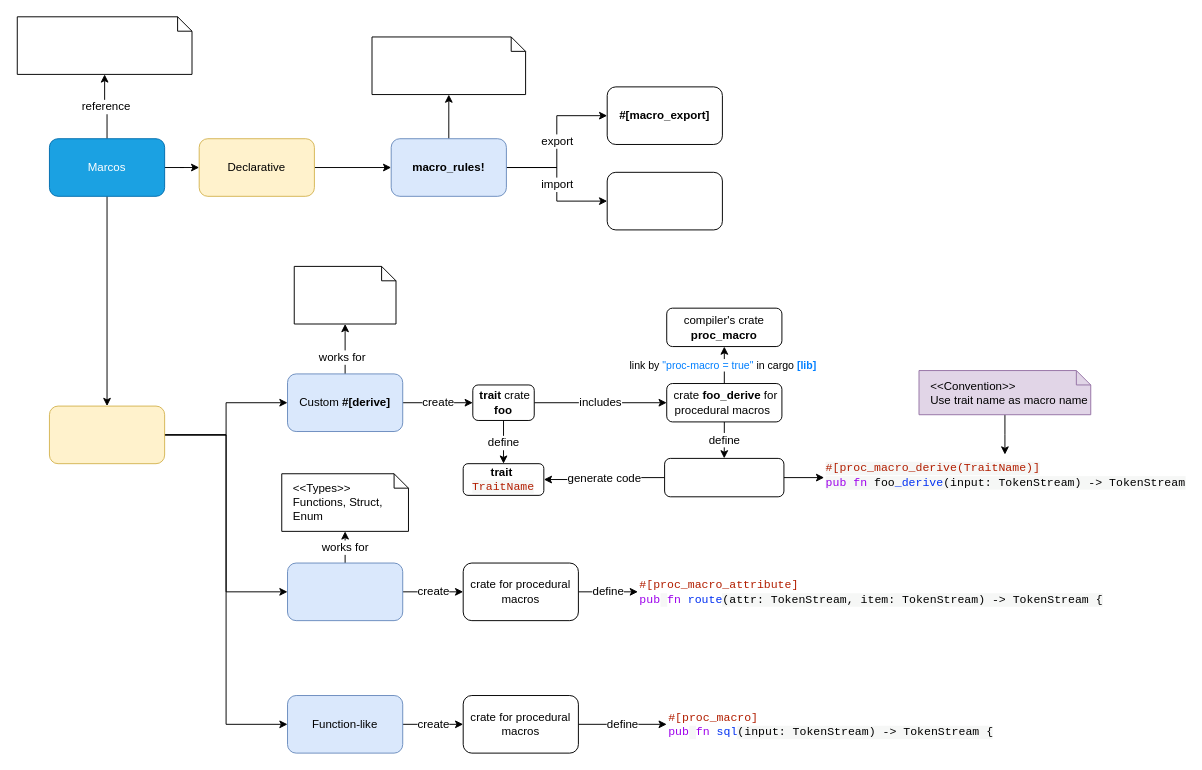
The diagram is 1202 pixels wide and 770 high, and some of its shapes have lost their labels. Each missing label, with the centre of its shape:
<<Application>> general metaprogramming: the point at 448,65
<<Book>> The little book of Rust Macros: the point at 104,45
<<Types>> Struct, Enum: the point at 344,294
Attribute-like: the point at 345,591
e.g. use crate::macro: the point at 664,200
proc_macro_derive: the point at 724,477
Procedural: the point at 106,434
